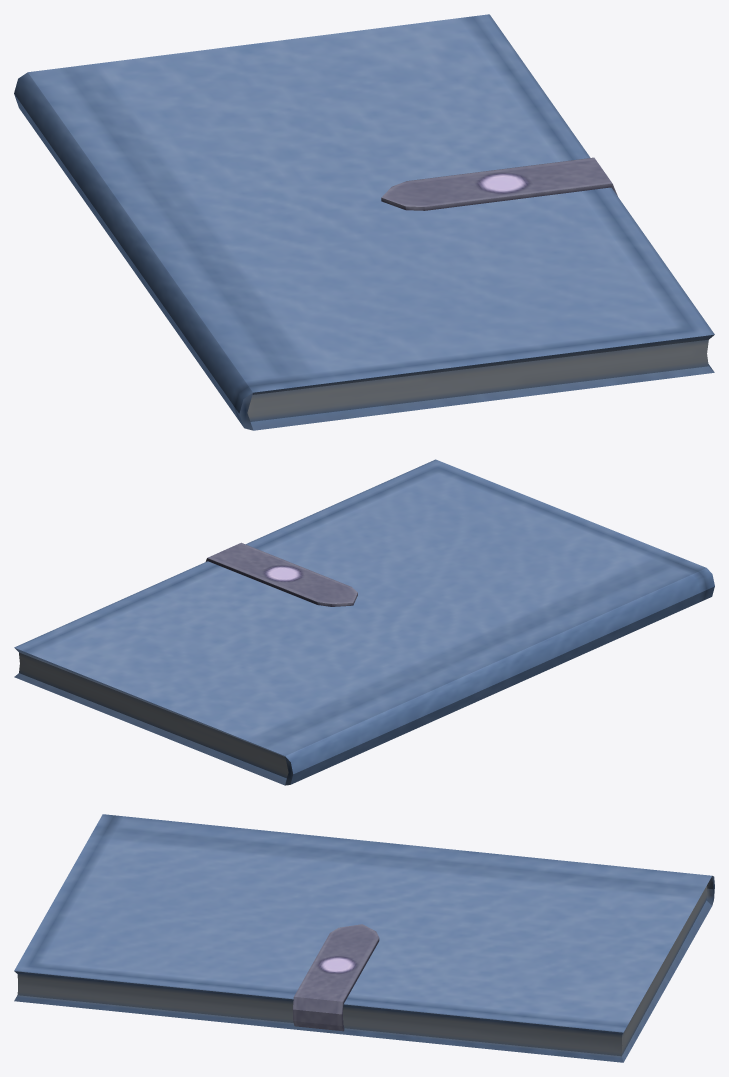
The model's file is ShaShouJia_01_rijiben_01.FBX.
3 renders of one model, top to bottom at view 1: azimuth 30°, elevation 25°; view 2: azimuth 150°, elevation 25°; view 3: azimuth 270°, elevation 25°, orthographic. The views are drawn at different scales.
Parts seen in each view (by area): view 1: ShaShouJia_01_rijiben_01; view 2: ShaShouJia_01_rijiben_01; view 3: ShaShouJia_01_rijiben_01.
Part boxes in pixels (x1,y1,x2,y2): ShaShouJia_01_rijiben_01: (14,14,714,430); ShaShouJia_01_rijiben_01: (14,459,714,785); ShaShouJia_01_rijiben_01: (14,814,714,1062).
Bounding box in the file's own units: 161 × 11.19 × 214.
